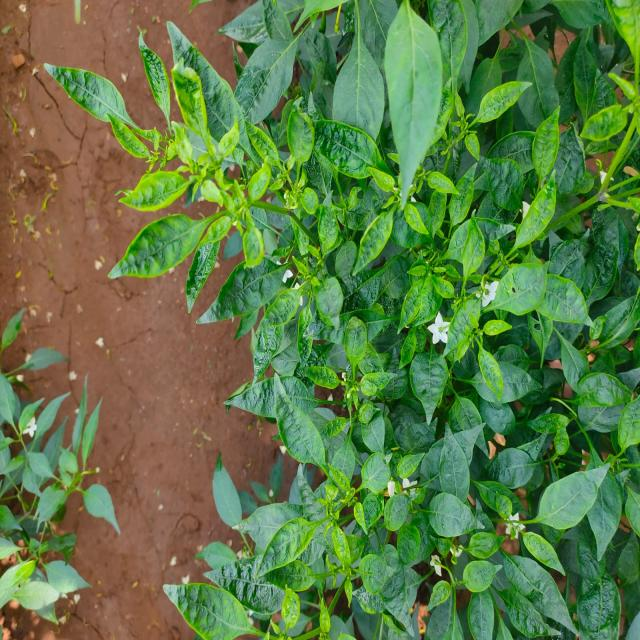Moko: (45, 46, 271, 296), (178, 431, 386, 638), (488, 87, 640, 270), (356, 216, 502, 379), (540, 468, 640, 640), (228, 83, 330, 224), (291, 322, 403, 450), (336, 120, 446, 248), (415, 40, 509, 182)
